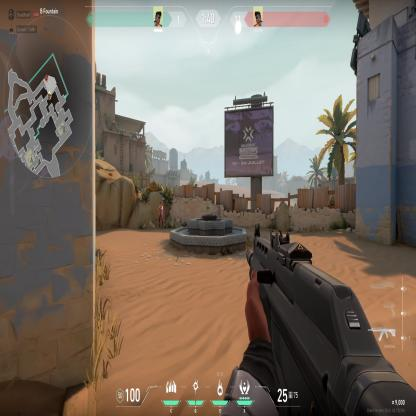enemy: (158, 200, 165, 230)
